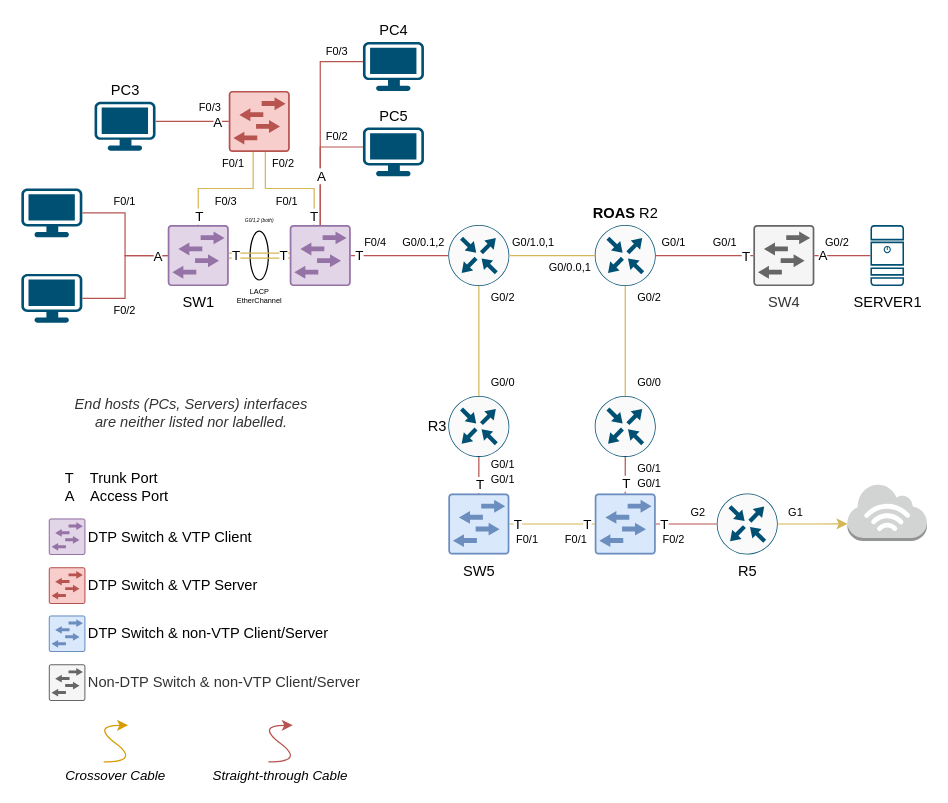
The diagram is 948 pixels wide and 803 high, and some of its shapes have lost their labels. Each missing label, with the centre of its shape:
"Outside" goes at [886,512].
"PC1" goes at [51,212].
"PC2" goes at [51,297].
"R4" goes at [625,426].
"ROAS R1" goes at [478,255].
"SW2" goes at [320,255].
"SW3" goes at [259,121].
"SW6" goes at [625,523].
